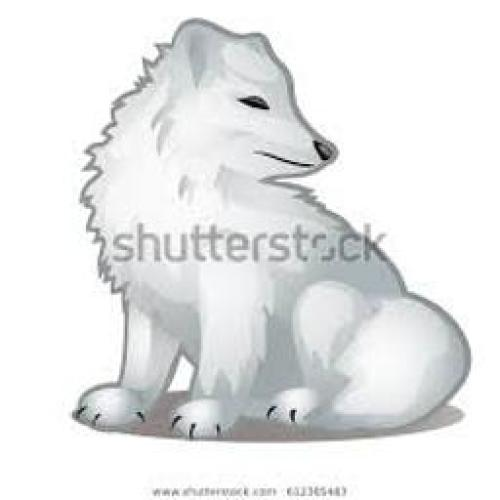arctic_fox-endangered: (74, 19, 473, 446)
